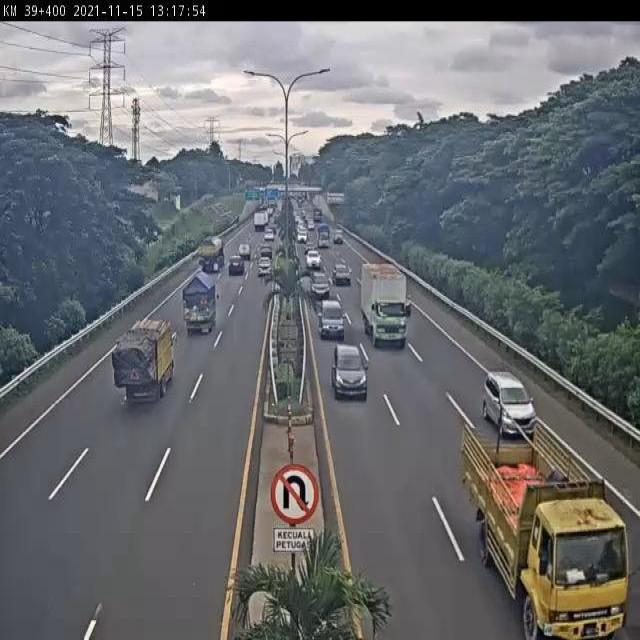car: (481, 371, 541, 440), (330, 339, 371, 400), (317, 295, 346, 341), (309, 268, 331, 300), (333, 260, 352, 287), (255, 256, 273, 280), (227, 255, 244, 277)
truck-m-: (462, 424, 629, 640), (110, 320, 175, 407), (360, 260, 411, 352), (181, 276, 218, 336)
truck-xl-: (192, 237, 224, 279)
